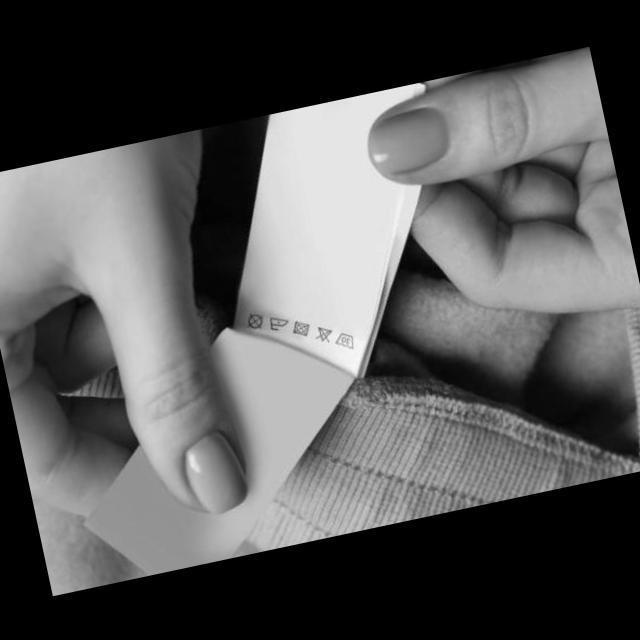30C: (330, 327, 354, 352)
DN_bleach: (309, 320, 334, 346)
DN_dry_clean: (242, 308, 265, 332)
DN_tumble_dry: (288, 315, 312, 340)
iron_low: (266, 311, 291, 332)
